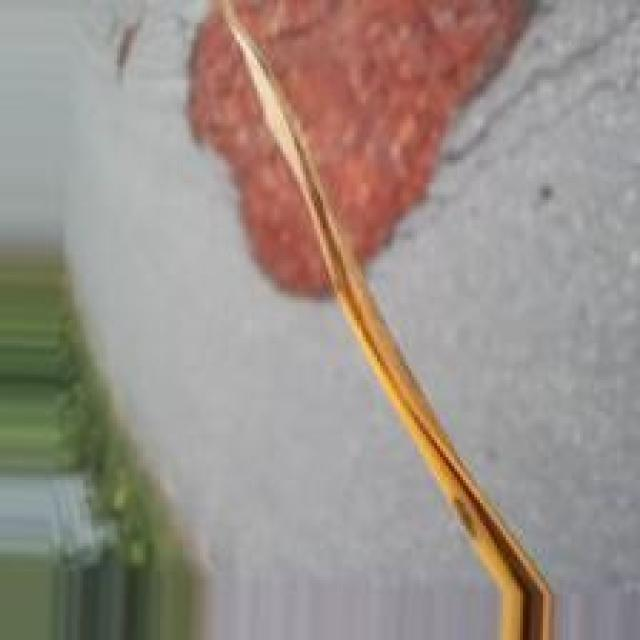Leaf_Scald: (295, 163, 551, 592)
